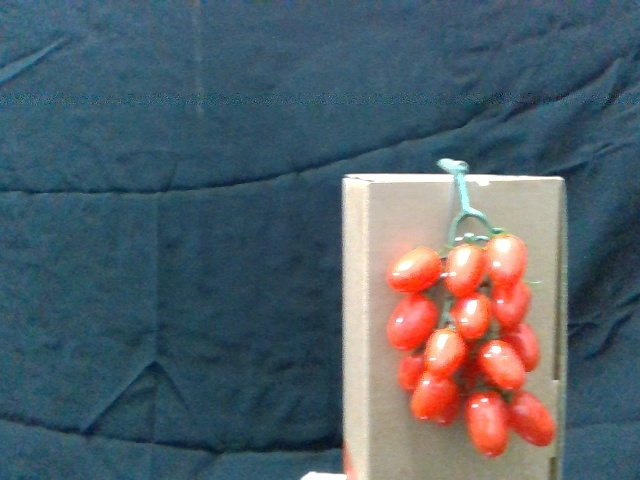tomato: (385, 293, 440, 355), (462, 392, 511, 457), (509, 389, 558, 451), (472, 341, 526, 394), (410, 373, 457, 425), (390, 248, 444, 293), (425, 325, 471, 377), (485, 231, 527, 287), (445, 242, 485, 298), (490, 282, 532, 329), (503, 322, 544, 370), (456, 293, 492, 346), (396, 348, 430, 392)
